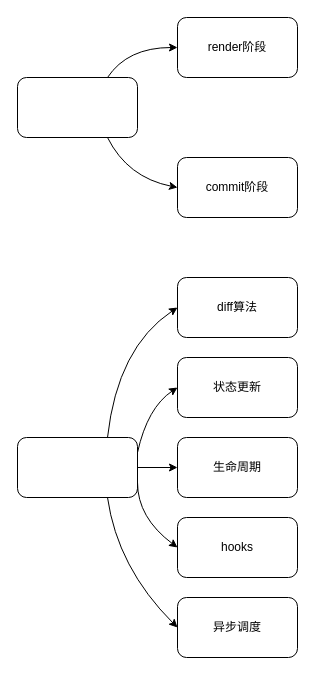
This 315x675 diagram has some shape labels left out. The centre of each missing label's shape, as x and y in pixels:
"实现" goes at point 77,467.
"架构" goes at point 77,107.
